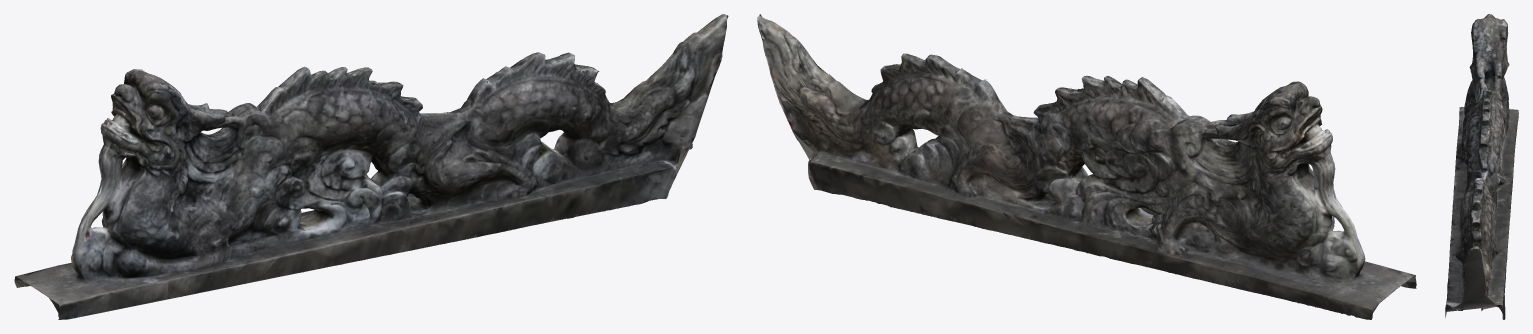
File: rong-co-loa.glb
3 renders of one model, left to right at view 1: azimuth 30°, elevation 25°; view 2: azimuth 150°, elevation 25°; view 3: azimuth 270°, elevation 25°, orthographic. The views are drawn at different scales.
Visible parts, largest first — view 1: Object_4; view 2: Object_4; view 3: Object_4.
Part boxes in pixels (left/top/right/bottom): Object_4: left=14, top=14, right=728, bottom=319; Object_4: left=757, top=14, right=1416, bottom=319; Object_4: left=1445, top=14, right=1518, bottom=319.
Bounding box in the file's own units: 20.32 × 6.29 × 2.9.
1 material, 1 textured.
